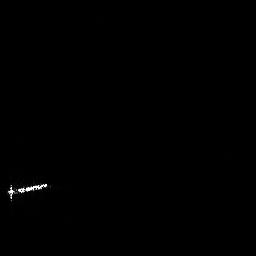ship: (6, 180, 53, 204)
